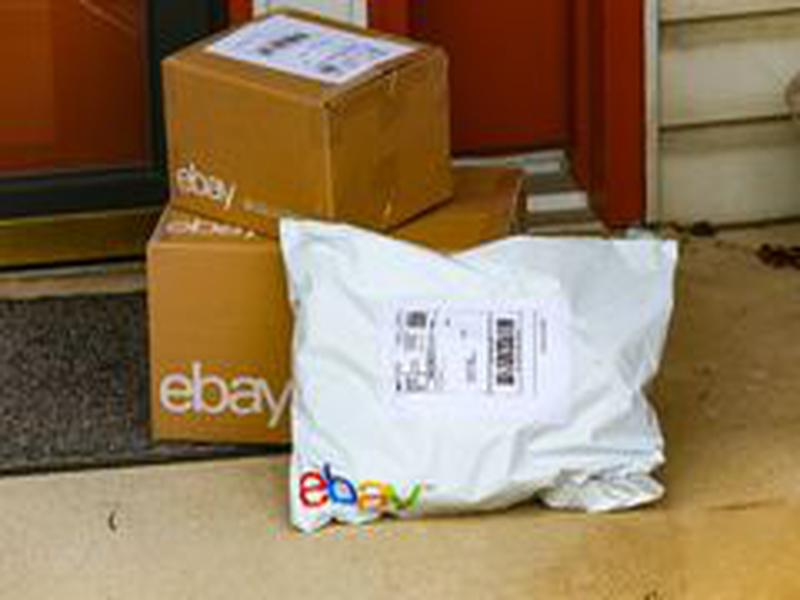package: (270, 211, 689, 544), (160, 8, 465, 243), (136, 213, 293, 457)
